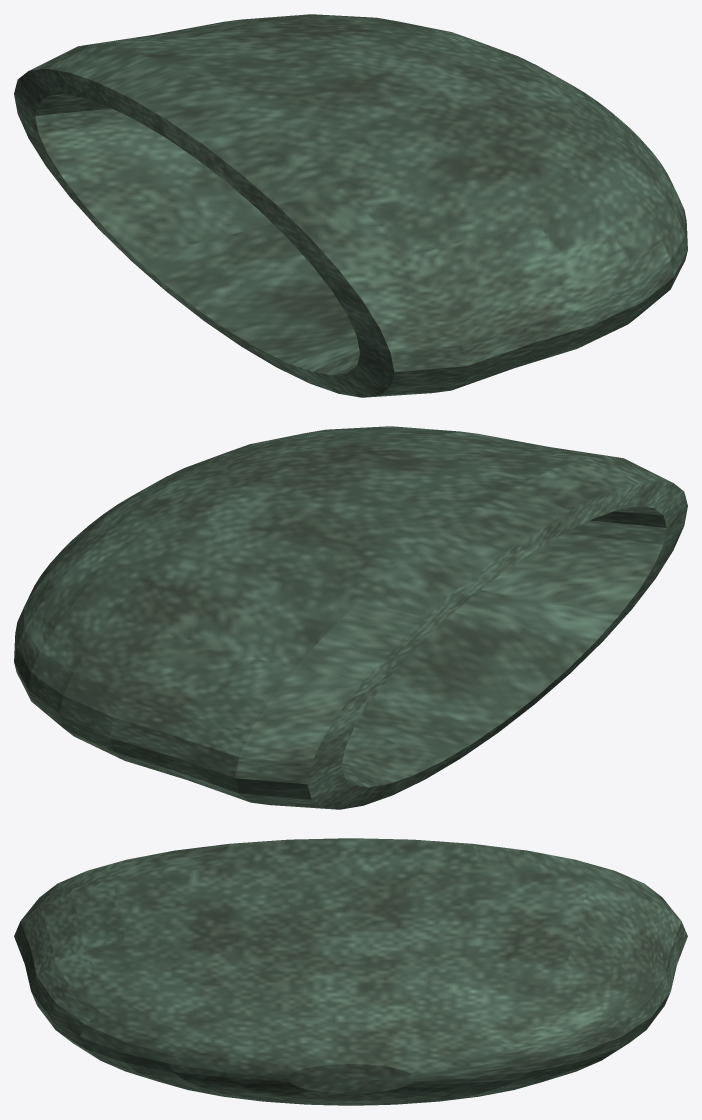
File: hat1.fbx
3 views of the same model, one above another, from view 1: azimuth 30°, elevation 25°; view 2: azimuth 150°, elevation 25°; view 3: azimuth 270°, elevation 25° (orthographic). The views are drawn at different scales.
Visible parts, largest first — view 1: hat1; view 2: hat1; view 3: hat1.
Boxes of the visible parts, x1,y1,x2,y2 form: hat1: (14,14,687,397); hat1: (14,426,687,809); hat1: (14,838,687,1105).
Size of the model in its own units: 123 by 52.69 by 207.
Materials: 1 (1 with a texture image).
